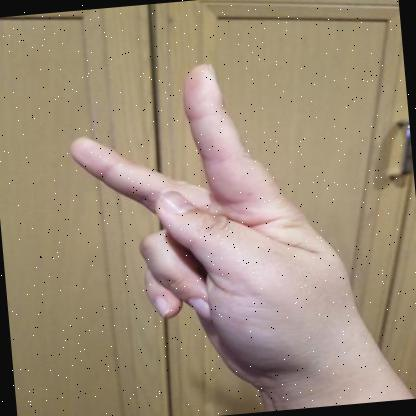K: (69, 63, 372, 388)
